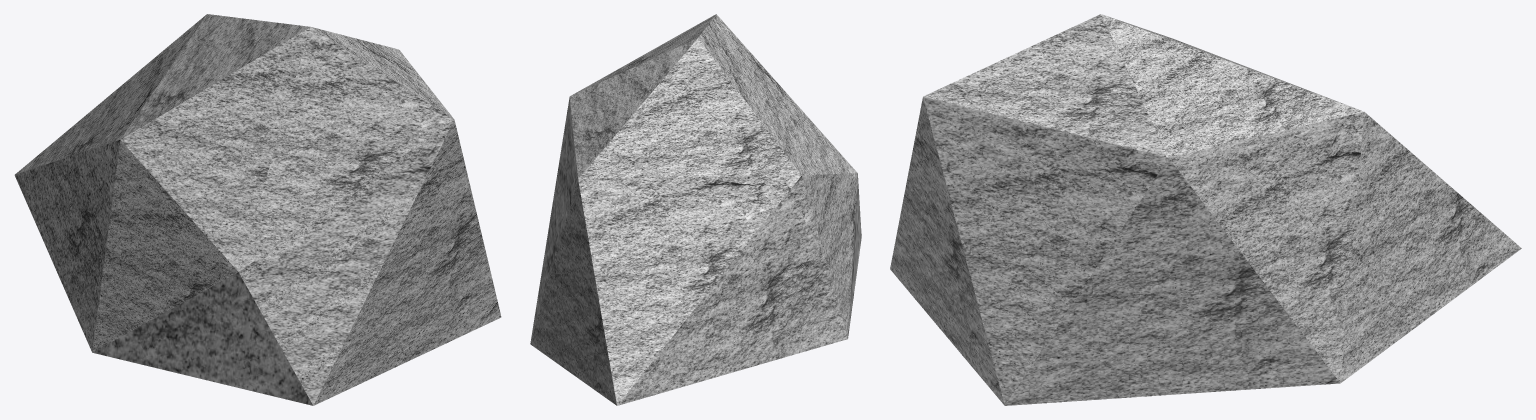
The model's file is rock5.fbx.
3 views of the same model, side by side, from view 1: azimuth 30°, elevation 25°; view 2: azimuth 150°, elevation 25°; view 3: azimuth 270°, elevation 25° (orthographic). The views are drawn at different scales.
Visible parts, largest first — view 1: GeoSphere003; view 2: GeoSphere003; view 3: GeoSphere003.
Boxes of the visible parts, left/top/right/bottom form: GeoSphere003: left=14, top=14, right=501, bottom=405; GeoSphere003: left=530, top=14, right=861, bottom=405; GeoSphere003: left=890, top=14, right=1521, bottom=405.
Bounding box in the file's own units: 49.48 × 41.45 × 73.27.
Materials: 1 (1 with a texture image).
